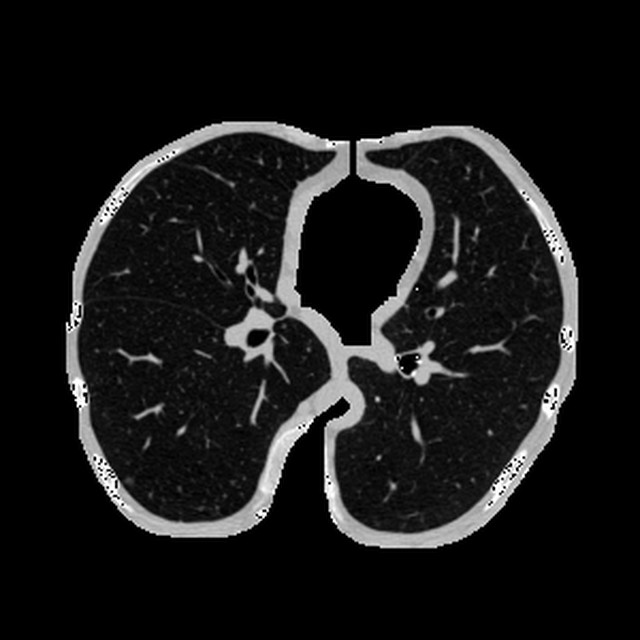PN: (124, 476, 132, 484)
